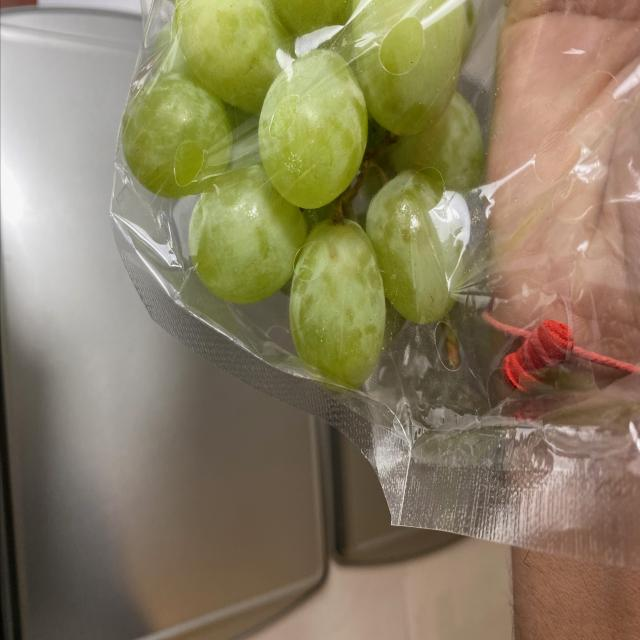grapes: (105, 0, 486, 395)
